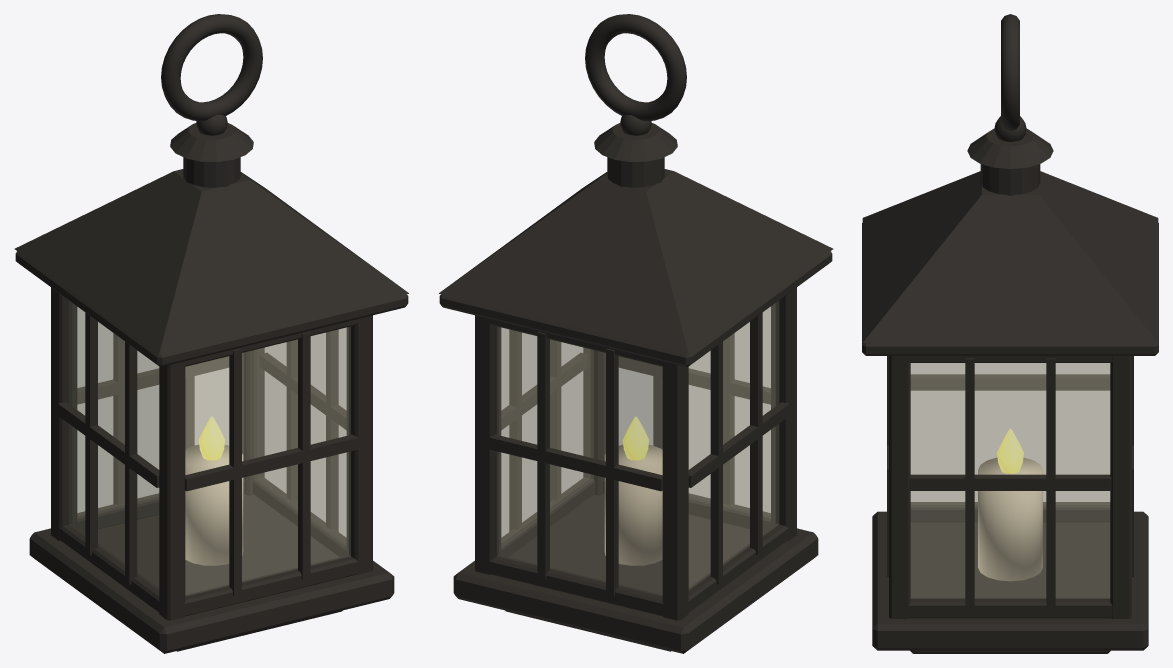
The model's file is hanging-lantern_final.glb.
3 views of the same model, side by side, from view 1: azimuth 30°, elevation 25°; view 2: azimuth 150°, elevation 25°; view 3: azimuth 270°, elevation 25° (orthographic). The views are drawn at different scales.
Visible parts, largest first — view 1: SM_HangingLantern_Roof, SM_HangingLantern_Glass, SM_HangingLantern_Frame, SM_HangingLantern_CageBars, SM_HangingLantern_Base, SM_HangingLantern_Ring, SM_HangingLantern_Candle, SM_HangingLantern_Flame; view 2: SM_HangingLantern_Roof, SM_HangingLantern_Glass, SM_HangingLantern_Frame, SM_HangingLantern_CageBars, SM_HangingLantern_Base, SM_HangingLantern_Ring, SM_HangingLantern_Candle, SM_HangingLantern_Flame; view 3: SM_HangingLantern_Roof, SM_HangingLantern_Glass, SM_HangingLantern_Base, SM_HangingLantern_Frame, SM_HangingLantern_CageBars, SM_HangingLantern_Candle, SM_HangingLantern_Ring, SM_HangingLantern_Flame, SM_HangingLantern_Knob.
Boxes of the visible parts, <box> form: SM_HangingLantern_Roof: <box>14,123,408,366</box>; SM_HangingLantern_Glass: <box>69,301,350,595</box>; SM_HangingLantern_Frame: <box>51,287,372,620</box>; SM_HangingLantern_CageBars: <box>57,312,358,596</box>; SM_HangingLantern_Base: <box>29,494,394,653</box>; SM_HangingLantern_Ring: <box>161,14,262,121</box>; SM_HangingLantern_Candle: <box>185,445,243,565</box>; SM_HangingLantern_Flame: <box>199,416,224,460</box>; SM_HangingLantern_Roof: <box>439,123,833,366</box>; SM_HangingLantern_Glass: <box>497,301,778,595</box>; SM_HangingLantern_Frame: <box>475,287,796,620</box>; SM_HangingLantern_CageBars: <box>489,312,790,596</box>; SM_HangingLantern_Base: <box>453,494,818,653</box>; SM_HangingLantern_Ring: <box>585,14,686,121</box>; SM_HangingLantern_Candle: <box>604,445,662,565</box>; SM_HangingLantern_Flame: <box>623,416,648,460</box>; SM_HangingLantern_Roof: <box>862,129,1158,355</box>; SM_HangingLantern_Glass: <box>910,363,1110,598</box>; SM_HangingLantern_Base: <box>872,511,1148,653</box>; SM_HangingLantern_Frame: <box>889,356,1131,618</box>; SM_HangingLantern_CageBars: <box>887,356,1133,609</box>; SM_HangingLantern_Candle: <box>978,457,1042,581</box>; SM_HangingLantern_Ring: <box>1001,14,1019,130</box>; SM_HangingLantern_Flame: <box>997,428,1023,473</box>; SM_HangingLantern_Knob: <box>994,116,1026,141</box>.
Bounding box in the file's own units: 0.22 × 0.4855 × 0.22.
